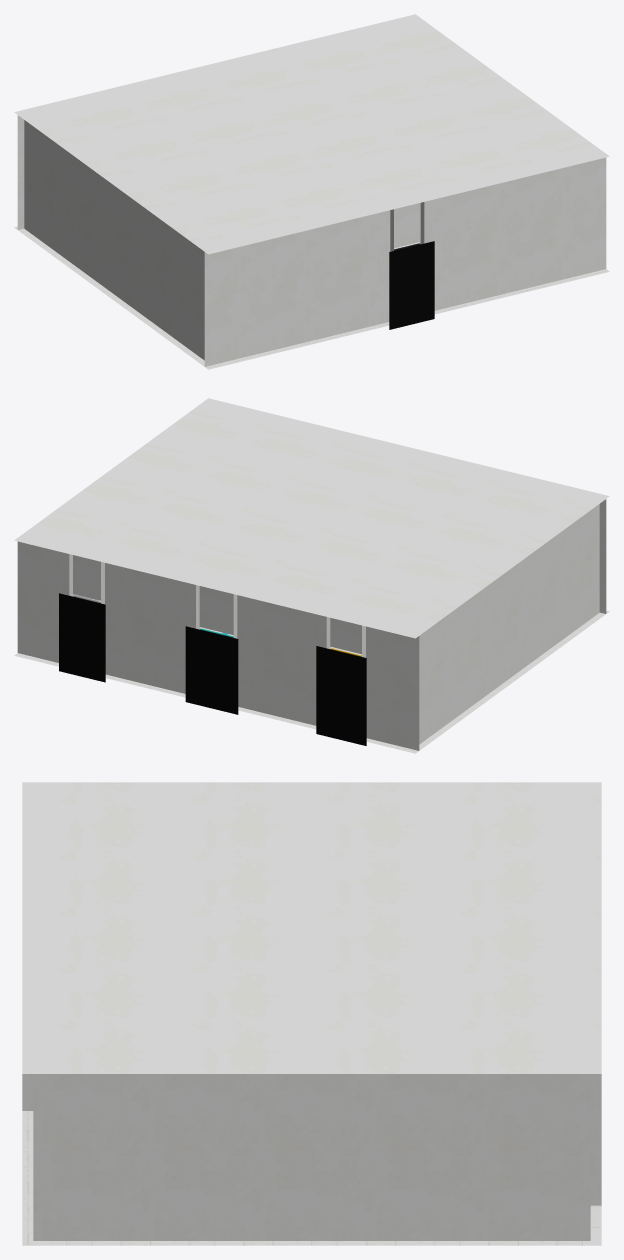
File: rdwe_three_doors.glb
3 views of the same model, one above another, from view 1: azimuth 30°, elevation 25°; view 2: azimuth 150°, elevation 25°; view 3: azimuth 270°, elevation 25° (orthographic). The views are drawn at different scales.
Visible parts, largest first — view 1: Ceil_White, Wall_Gallery, Void, Floor_Marble; view 2: Ceil_White, Wall_Gallery, Void, Floor_Marble; view 3: Ceil_White, Wall_Gallery, Floor_Marble.
Part boxes in pixels (left/top/right/bottom): Ceil_White: left=14, top=14, right=609, bottom=254; Wall_Gallery: left=17, top=115, right=606, bottom=366; Void: left=389, top=241, right=434, bottom=329; Floor_Marble: left=14, top=226, right=609, bottom=369; Ceil_White: left=14, top=398, right=609, bottom=638; Wall_Gallery: left=17, top=499, right=606, bottom=750; Void: left=59, top=593, right=366, bottom=745; Floor_Marble: left=14, top=600, right=609, bottom=753; Ceil_White: left=22, top=782, right=601, bottom=1073; Wall_Gallery: left=22, top=1074, right=601, bottom=1240; Floor_Marble: left=22, top=1111, right=601, bottom=1245.
Bounding box in the file's own units: 12.4 × 3.45 × 10.7.
29 materials, 18 textured.
